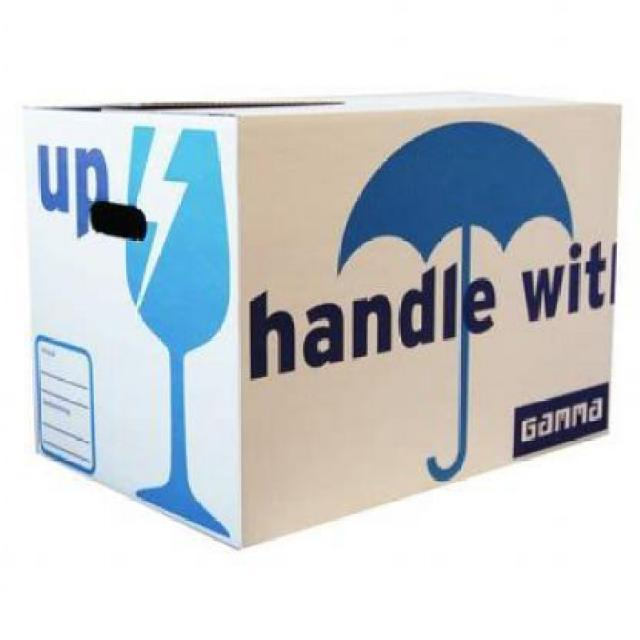box: (21, 93, 626, 554)
